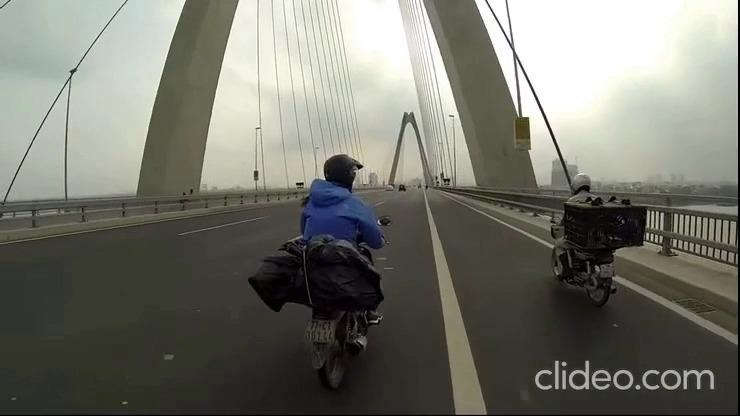helmet: (323, 153, 364, 194), (570, 172, 592, 196)
